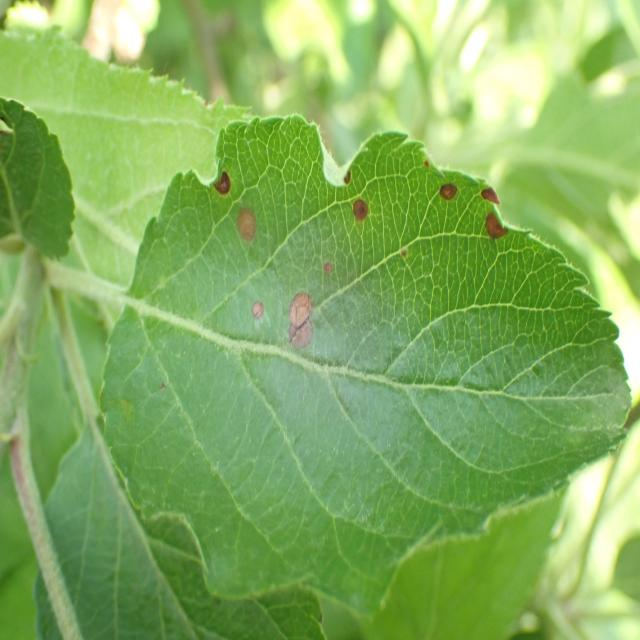Black Rot: (184, 142, 243, 215), (279, 274, 320, 378), (341, 175, 381, 249), (228, 205, 265, 258), (466, 163, 504, 210), (478, 206, 514, 252), (435, 171, 463, 223), (416, 144, 438, 191), (398, 230, 414, 294), (334, 150, 358, 191), (248, 289, 270, 332), (316, 248, 338, 291)
